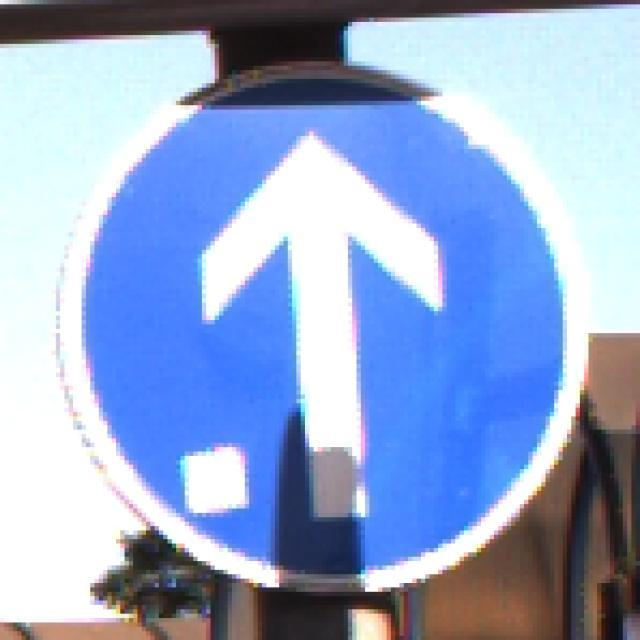compulsary ahead: (73, 76, 574, 576)
